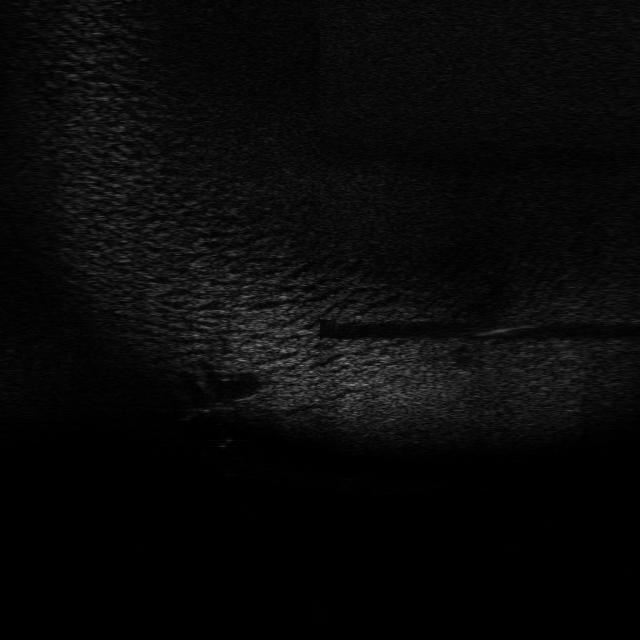plane: (176, 396, 237, 422)
